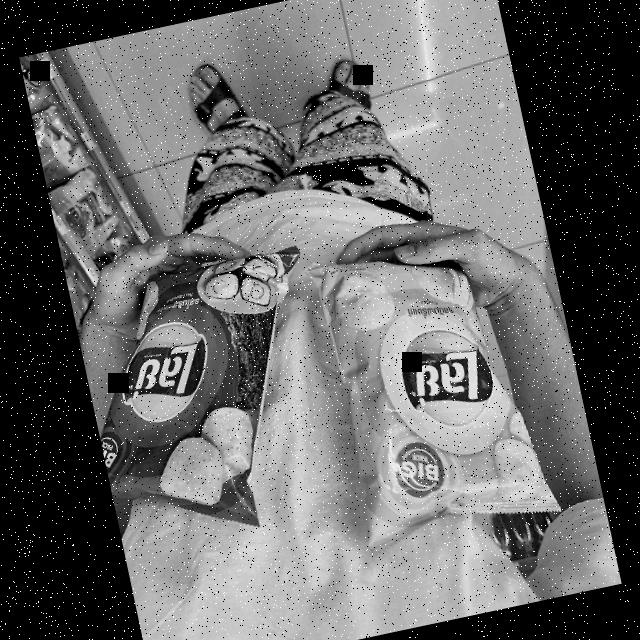snack_bag: (291, 207, 575, 566), (67, 235, 352, 567)
